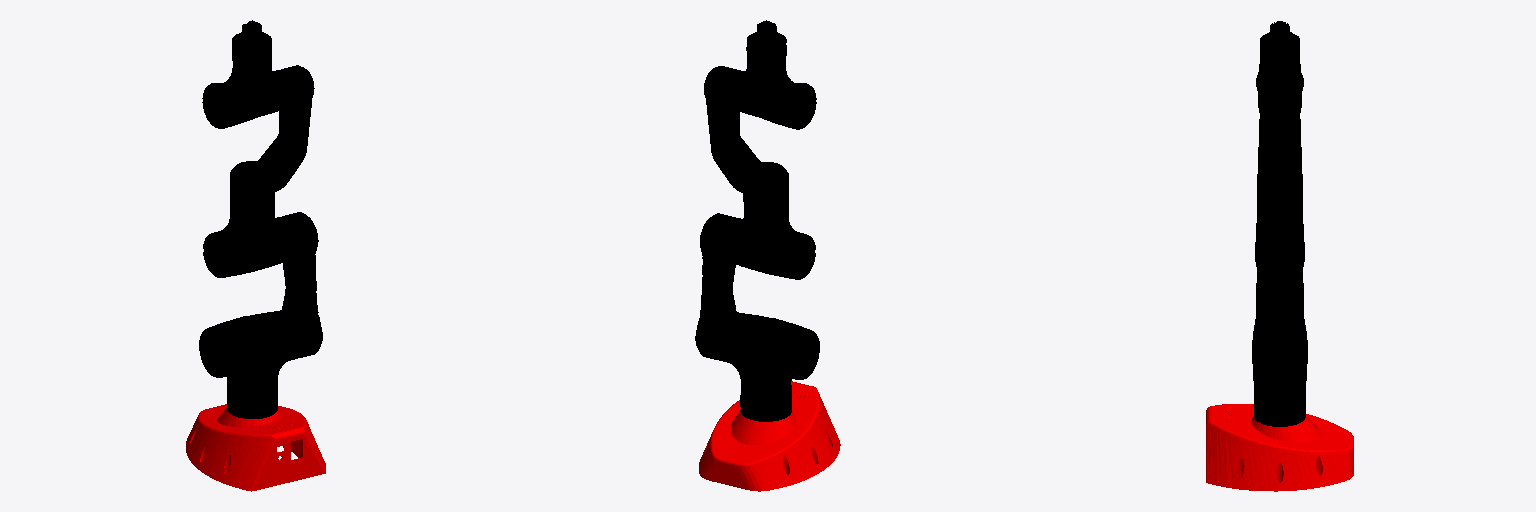
URDF robot description (mara):
<?xml version="1.0" ?>
<!-- =================================================================================== -->
<!-- |    This document was autogenerated by xacro from ros2_mara_ws/src/mara/mara_description/urdf/reinforcement_learning/mara_robot_train.urdf.xacro | -->
<!-- |    EDITING THIS FILE BY HAND IS NOT RECOMMENDED                                 | -->
<!-- =================================================================================== -->
<robot name="mara" xmlns:xacro="http://ros.org/wiki/xacro">
  <link name="motor1_link">
    <inertial>
      <origin rpy="0 0 0" xyz="0.02066 0 0.12051"/>
      <mass value="5.6"/>
      <inertia ixx="0.0200769278" ixy="-7.72273E-006" ixz="0.0050158708" iyy="0.0257088151" iyz="5.49229E-006" izz="0.0120821377"/>
    </inertial>
    <visual>
      <origin rpy="0 0 0" xyz="0 0 0"/>
      <geometry>
        <mesh filename="package://mara_description/meshes/MARA_T49.dae" scale="0.001 0.001 0.001"/>
      </geometry>
      <material name="Gazebo/White">
        <color rgba="0. 0. 0. 1"/>
      </material>
    </visual>
    <collision>
      <origin rpy="0 0 0" xyz="0 0 0"/>
      <geometry>
        <mesh filename="package://mara_description/meshes/MARA_T49.dae" scale="0.001 0.001 0.001"/>
      </geometry>
    </collision>
  </link>
  <gazebo reference="motor1_link">
    <material>Gazebo/White</material>
    <selfCollide>True</selfCollide>
  </gazebo>
  <link name="motor1_cover">
    <inertial>
      <origin rpy="0 0 0" xyz="8.625E-08 -4.6583E-06 0.03145"/>
      <mass value="0.0"/>
      <inertia ixx="0.0" ixy="0.0" ixz="0.0" iyy="0.0" iyz="0.0" izz="0.0"/>
    </inertial>
    <visual>
      <origin rpy="0 0 0" xyz="0 0 0"/>
      <geometry>
        <mesh filename="package://mara_description/meshes/MARA_T49_Black.dae" scale="0.001 0.001 0.001"/>
      </geometry>
      <material name="Gazebo/Black">
        <color rgba="0. 0. 0. 1"/>
      </material>
    </visual>
    <collision>
      <origin rpy="0 0 0" xyz="0 0 0"/>
      <geometry>
        <mesh filename="package://mara_description/meshes/MARA_T49_Black.dae" scale="0.001 0.001 0.001"/>
      </geometry>
    </collision>
  </link>
  <gazebo reference="motor1_cover">
    <material>Gazebo/Black</material>
    <selfCollide>True</selfCollide>
  </gazebo>
  <link name="motor2_link">
    <inertial>
      <origin rpy="0 0 0" xyz="-0.01665 0.0 0.09639"/>
      <mass value="1.236"/>
      <inertia ixx="0.0079614839" ixy="0.000000037" ixz="-0.0003203013" iyy="0.007135338" iyz="-0.000001062" izz="0.001111114"/>
    </inertial>
    <visual>
      <origin rpy="0 0 0" xyz="0 0 0"/>
      <geometry>
        <mesh filename="package://mara_description/meshes/MARA_Link1.dae" scale="0.001 0.001 0.001"/>
      </geometry>
      <material name="Gazebo/Black">
        <color rgba="0. 0. 0. 1"/>
      </material>
    </visual>
    <collision>
      <origin rpy="0 0 0" xyz="0 0 0"/>
      <geometry>
        <mesh filename="package://mara_description/meshes/MARA_Link1.dae" scale="0.001 0.001 0.001"/>
      </geometry>
    </collision>
  </link>
  <gazebo reference="motor2_link">
    <material>Gazebo/Black</material>
    <selfCollide>True</selfCollide>
  </gazebo>
  <link name="motor3_link">
    <inertial>
      <origin rpy="0 0 0" xyz="-0.08963 0.0 0.0403"/>
      <mass value="3.95"/>
      <inertia ixx="0.0115136615" ixy="-1.231046E-005" ixz="-0.003148516" iyy="0.0149841676" iyz="-8.81378E-006" izz="0.0070387807"/>
    </inertial>
    <visual>
      <origin rpy="0 0 0" xyz="0 0 0"/>
      <geometry>
        <mesh filename="package://mara_description/meshes/MARA_T30.dae" scale="0.001 0.001 0.001"/>
      </geometry>
      <material name="Gazebo/White">
        <color rgba="0. 0. 0. 1"/>
      </material>
    </visual>
    <collision>
      <origin rpy="0 0 0" xyz="0 0 0"/>
      <geometry>
        <mesh filename="package://mara_description/meshes/MARA_T30.dae" scale="0.001 0.001 0.001"/>
      </geometry>
    </collision>
  </link>
  <gazebo reference="motor3_link">
    <material>Gazebo/White</material>
    <selfCollide>True</selfCollide>
  </gazebo>
  <link name="motor3_cover">
    <inertial>
      <origin rpy="0 0 0" xyz="8.625E-08 -4.6583E-06 0.03145"/>
      <mass value="0.0"/>
      <inertia ixx="0.0" ixy="0.0" ixz="0.0" iyy="0.0" iyz="0.0" izz="0.0"/>
    </inertial>
    <visual>
      <origin rpy="0 0 0" xyz="0 0 0"/>
      <geometry>
        <mesh filename="package://mara_description/meshes/MARA_T30_Black.dae" scale="0.001 0.001 0.001"/>
      </geometry>
      <material name="Gazebo/Black">
        <color rgba="0. 0. 0. 1"/>
      </material>
    </visual>
    <collision>
      <origin rpy="0 0 0" xyz="0 0 0"/>
      <geometry>
        <mesh filename="package://mara_description/meshes/MARA_T30_Black.dae" scale="0.001 0.001 0.001"/>
      </geometry>
    </collision>
  </link>
  <gazebo reference="motor3_cover">
    <material>Gazebo/Black</material>
    <selfCollide>True</selfCollide>
  </gazebo>
  <link name="motor4_link">
    <inertial>
      <origin rpy="0 0 0" xyz="0.06357 0.0 0.05698"/>
      <mass value="1.258"/>
      <inertia ixx="0.005919676" ixy="0.000000923" ixz="0.0022280208" iyy="0.0068807393" iyz="6.1373E-007" izz="0.00257485"/>
    </inertial>
    <visual>
      <origin rpy="0 0 0" xyz="0 0 0"/>
      <geometry>
        <mesh filename="package://mara_description/meshes/MARA_Link2.dae" scale="0.001 0.001 0.001"/>
      </geometry>
      <material name="Gazebo/Black">
        <color rgba="0. 0. 0. 1"/>
      </material>
    </visual>
    <collision>
      <origin rpy="0 0 0" xyz="0 0 0"/>
      <geometry>
        <mesh filename="package://mara_description/meshes/MARA_Link2.dae" scale="0.001 0.001 0.001"/>
      </geometry>
    </collision>
  </link>
  <gazebo reference="motor4_link">
    <material>Gazebo/Black</material>
    <selfCollide>True</selfCollide>
  </gazebo>
  <link name="motor5_link">
    <inertial>
      <origin rpy="0 0 0" xyz="-0.09105 0.0 0.03676"/>
      <mass value="2.85"/>
      <inertia ixx="0.0072829492" ixy="3.77994E-006" ixz="-0.0015682105" iyy="0.0098263499" iyz="2.52745E-006" izz="0.0045615321"/>
    </inertial>
    <visual>
      <origin rpy="0 0 0" xyz="0 0 0"/>
      <geometry>
        <mesh filename="package://mara_description/meshes/MARA_T5.4.dae" scale="0.001 0.001 0.001"/>
      </geometry>
      <material name="Gazebo/White">
        <color rgba="0. 0. 0. 1"/>
      </material>
    </visual>
    <collision>
      <origin rpy="0 0 0" xyz="0 0 0"/>
      <geometry>
        <mesh filename="package://mara_description/meshes/MARA_T5.4.dae" scale="0.001 0.001 0.001"/>
      </geometry>
    </collision>
  </link>
  <gazebo reference="motor5_link">
    <material>Gazebo/White</material>
    <selfCollide>True</selfCollide>
  </gazebo>
  <link name="motor5_cover">
    <inertial>
      <origin rpy="0 0 0" xyz="8.625E-08 -4.6583E-06 0.03145"/>
      <mass value="0.0"/>
      <inertia ixx="0.0" ixy="0.0" ixz="0.0" iyy="0.0" iyz="0.0" izz="0.0"/>
    </inertial>
    <visual>
      <origin rpy="0 0 0" xyz="0 0 0"/>
      <geometry>
        <mesh filename="package://mara_description/meshes/MARA_T5.4_black.dae" scale="0.001 0.001 0.001"/>
      </geometry>
      <material name="Gazebo/Black">
        <color rgba="0. 0. 0. 1"/>
      </material>
    </visual>
    <collision>
      <origin rpy="0 0 0" xyz="0 0 0"/>
      <geometry>
        <mesh filename="package://mara_description/meshes/MARA_T5.4_black.dae" scale="0.001 0.001 0.001"/>
      </geometry>
    </collision>
  </link>
  <gazebo reference="motor5_cover">
    <material>Gazebo/Black</material>
    <selfCollide>True</selfCollide>
  </gazebo>
  <!-- dummy link with the required tags-->
  <link name="motor6_link">
    <inertial>
      <origin rpy="0 0 0" xyz="0 0 0"/>
      <mass value="0.00001"/>
      <inertia ixx="0" ixy="0" ixz="0" iyy="0" iyz="0" izz="0"/>
    </inertial>
    <visual>
      <origin rpy="0 0 0" xyz="0 0 0"/>
      <geometry>
        <sphere radius="0"/>
      </geometry>
    </visual>
    <collision>
      <origin rpy="0 0 0" xyz="0 0 0"/>
      <geometry>
        <sphere radius="0"/>
      </geometry>
    </collision>
  </link>
  <link name="ee_link">
    <visual>
      <geometry>
        <sphere radius="0.01"/>
      </geometry>
      <material name="Gazebo/Grey">
        <color rgba="0. 0. 0. 1"/>
      </material>
    </visual>
  </link>
  <gazebo reference="ee_link">
    <material>Gazebo/Blue</material>
    <selfCollide>False</selfCollide>
  </gazebo>
  <joint name="motor1_cover_joint" type="fixed">
    <origin rpy="0 0 0" xyz="0 0 0.0"/>
    <parent link="motor1_link"/>
    <child link="motor1_cover"/>
  </joint>
  <joint name="motor2" type="revolute">
    <origin rpy="0 0 0" xyz="0.118 0 0.1637"/>
    <parent link="motor1_link"/>
    <child link="motor2_link"/>
    <axis xyz="1 0 0"/>
    <limit effort="104.0" lower="-2.35" upper="2.35" velocity="1.57"/>
    <dynamics damping="0" friction="0"/>
  </joint>
  <joint name="motor3" type="revolute">
    <origin rpy="0 0 0" xyz="-0.009 0 0.2"/>
    <parent link="motor2_link"/>
    <child link="motor3_link"/>
    <axis xyz="-1 0 0"/>
    <limit effort="69" lower="-2.61" upper="2.61" velocity="1.57"/>
    <dynamics damping="0" friction="0"/>
  </joint>
  <joint name="motor3_cover_joint" type="fixed">
    <origin rpy="0 0 0" xyz="0 0 0.0"/>
    <parent link="motor3_link"/>
    <child link="motor3_cover"/>
  </joint>
  <joint name="motor4" type="revolute">
    <origin rpy="0 0 0" xyz="-0.109255 0 0.149255"/>
    <parent link="motor3_link"/>
    <child link="motor4_link"/>
    <axis xyz="0 0 1"/>
    <limit effort="69" lower="-3.14" upper="3.14" velocity="1.57"/>
    <dynamics damping="0" friction="0"/>
  </joint>
  <joint name="motor5" type="revolute">
    <origin rpy="0 0 0" xyz="0.1054570 0 0.16074"/>
    <parent link="motor4_link"/>
    <child link="motor5_link"/>
    <axis xyz="-1 0 0"/>
    <limit effort="34" lower="-2.56" upper="2.56" velocity="1.57"/>
    <dynamics damping="0" friction="0"/>
  </joint>
  <joint name="motor5_cover_joint" type="fixed">
    <origin rpy="0 0 0" xyz="0 0 0.0"/>
    <parent link="motor5_link"/>
    <child link="motor5_cover"/>
  </joint>
  <joint name="motor6" type="revolute">
    <origin rpy="0 0 0" xyz="-0.10625569 0 0.14675569"/>
    <parent link="motor5_link"/>
    <child link="motor6_link"/>
    <axis xyz="0 0 1"/>
    <limit effort="34" lower="-3.14" upper="3.14" velocity="1.57"/>
    <dynamics damping="0" friction="0"/>
  </joint>
  <joint name="ee_link" type="fixed">
    <origin rpy="0 0 0" xyz="0 0.0 0.0"/>
    <parent link="motor6_link"/>
    <child link="ee_link"/>
  </joint>
  <transmission name="shoulder_pan_trans">
    <type>transmission_interface/SimpleTransmission</type>
    <joint name="motor1">
      <hardwareInterface>hardware_interface/PositionJointInterface</hardwareInterface>
    </joint>
    <actuator name="shoulder_pan_motor">
      <mechanicalReduction>1</mechanicalReduction>
    </actuator>
  </transmission>
  <transmission name="shoulder_lift_trans">
    <type>transmission_interface/SimpleTransmission</type>
    <joint name="motor2">
      <hardwareInterface>hardware_interface/PositionJointInterface</hardwareInterface>
    </joint>
    <actuator name="shoulder_lift_motor">
      <mechanicalReduction>1</mechanicalReduction>
    </actuator>
  </transmission>
  <transmission name="elbow_trans">
    <type>transmission_interface/SimpleTransmission</type>
    <joint name="motor3">
      <hardwareInterface>hardware_interface/PositionJointInterface</hardwareInterface>
    </joint>
    <actuator name="elbow_motor">
      <mechanicalReduction>1</mechanicalReduction>
    </actuator>
  </transmission>
  <transmission name="wrist_1_trans">
    <type>transmission_interface/SimpleTransmission</type>
    <joint name="motor4">
      <hardwareInterface>hardware_interface/PositionJointInterface</hardwareInterface>
    </joint>
    <actuator name="wrist_1_motor">
      <mechanicalReduction>1</mechanicalReduction>
    </actuator>
  </transmission>
  <transmission name="wrist_2_trans">
    <type>transmission_interface/SimpleTransmission</type>
    <joint name="motor5">
      <hardwareInterface>hardware_interface/PositionJointInterface</hardwareInterface>
    </joint>
    <actuator name="wrist_2_motor">
      <mechanicalReduction>1</mechanicalReduction>
    </actuator>
  </transmission>
  <transmission name="wrist_3_trans">
    <type>transmission_interface/SimpleTransmission</type>
    <joint name="motor6">
      <hardwareInterface>hardware_interface/PositionJointInterface</hardwareInterface>
    </joint>
    <actuator name="wrist_3_motor">
      <mechanicalReduction>1</mechanicalReduction>
    </actuator>
  </transmission>
  <gazebo>
    <plugin filename="libmara_gazebo_joint_training_plugin.so" name="hrim_actuation_servomotor_00000000000">
      <ros/>
      <axis1>motor2</axis1>
      <axis2>motor1</axis2>
      <axis3>motor3</axis3>
      <axis4>motor4</axis4>
      <axis5>motor5</axis5>
      <axis6>motor6</axis6>
    </plugin>
  </gazebo>
  <link name="world"/>
  <link name="base_robot">
    <inertial>
      <origin rpy="0 0 0" xyz="8.625E-08 -4.6583E-06 0.03145"/>
      <mass value="7.033"/>
      <inertia ixx="0.1478344" ixy="0.00001" ixz="0.0" iyy="0.14782335" iyz="0.0" izz="0.29471799"/>
    </inertial>
    <visual>
      <origin rpy="0 0 0" xyz="0 0 0"/>
      <geometry>
        <mesh filename="package://mara_description/meshes/v8_MARA_Base.dae" scale="0.001 0.001 0.001"/>
      </geometry>
      <material name="Gazebo/Black">
        <color rgba="1. 0. 0. 1.0"/>
      </material>
    </visual>
    <collision>
      <origin rpy="0 0 0" xyz="0 0 0"/>
      <geometry>
        <mesh filename="package://mara_description/meshes/v8_MARA_Base.dae" scale="0.001 0.001 0.001"/>
      </geometry>
    </collision>
  </link>
  <gazebo reference="base_robot">
    <material>Gazebo/Black</material>
    <selfCollide>True</selfCollide>
  </gazebo>
  <joint name="world_to_base_robot" type="fixed">
    <origin rpy="0 0 0" xyz="0 0 0"/>
    <parent link="world"/>
    <child link="base_robot"/>
  </joint>
  <joint name="motor1" type="revolute">
    <origin rpy="0 0 0" xyz="0 0 0.06874"/>
    <parent link="base_robot"/>
    <child link="motor1_link"/>
    <axis xyz="0 0 1"/>
    <limit effort="104.0" lower="-3.1416" upper="3.1416" velocity="1.57"/>
    <dynamics damping="0" friction="0"/>
  </joint>
</robot>

--- Facts derived from the render (not from the file) ---
Views: 3 orthographic renders of the robot side by side, from view 1: azimuth 30°, elevation 25°; view 2: azimuth 150°, elevation 25°; view 3: azimuth 270°, elevation 25°.
Model mara with 12 links and 11 joints (6 revolute, 5 fixed), rooted at world, posed every joint at zero.
Links seen in each view (by area): view 1: base_robot, motor1_link, motor4_link, motor5_link, motor3_link, motor2_link, motor1_cover, motor5_cover, motor3_cover; view 2: base_robot, motor1_link, motor4_link, motor5_link, motor3_link, motor2_link, motor1_cover, motor5_cover, motor3_cover; view 3: base_robot, motor2_link, motor4_link, motor5_link, motor3_link, motor1_link.
Link boxes in pixels (bbox=[...]): base_robot: bbox=[186, 404, 325, 491]; motor1_link: bbox=[227, 310, 301, 413]; motor4_link: bbox=[230, 65, 314, 197]; motor5_link: bbox=[224, 22, 291, 117]; motor3_link: bbox=[221, 194, 295, 270]; motor2_link: bbox=[282, 212, 322, 357]; motor1_cover: bbox=[199, 308, 306, 418]; motor5_cover: bbox=[202, 24, 297, 128]; motor3_cover: bbox=[203, 191, 300, 277]; base_robot: bbox=[699, 381, 840, 491]; motor1_link: bbox=[717, 312, 791, 416]; motor4_link: bbox=[704, 66, 788, 198]; motor5_link: bbox=[726, 22, 794, 118]; motor3_link: bbox=[722, 194, 796, 272]; motor2_link: bbox=[695, 213, 736, 359]; motor1_cover: bbox=[712, 310, 819, 421]; motor5_cover: bbox=[720, 24, 816, 129]; motor3_cover: bbox=[717, 191, 815, 279]; base_robot: bbox=[1206, 404, 1353, 491]; motor2_link: bbox=[1254, 249, 1305, 400]; motor4_link: bbox=[1257, 98, 1302, 198]; motor5_link: bbox=[1258, 22, 1301, 112]; motor3_link: bbox=[1255, 197, 1304, 266]; motor1_link: bbox=[1252, 333, 1307, 421].
Bounding box of the posed robot: 0.2487 × 0.273 × 0.8992 m (x, y, z).
9 mesh visuals loaded from 9 distinct referenced files (9 Collada DAE).
